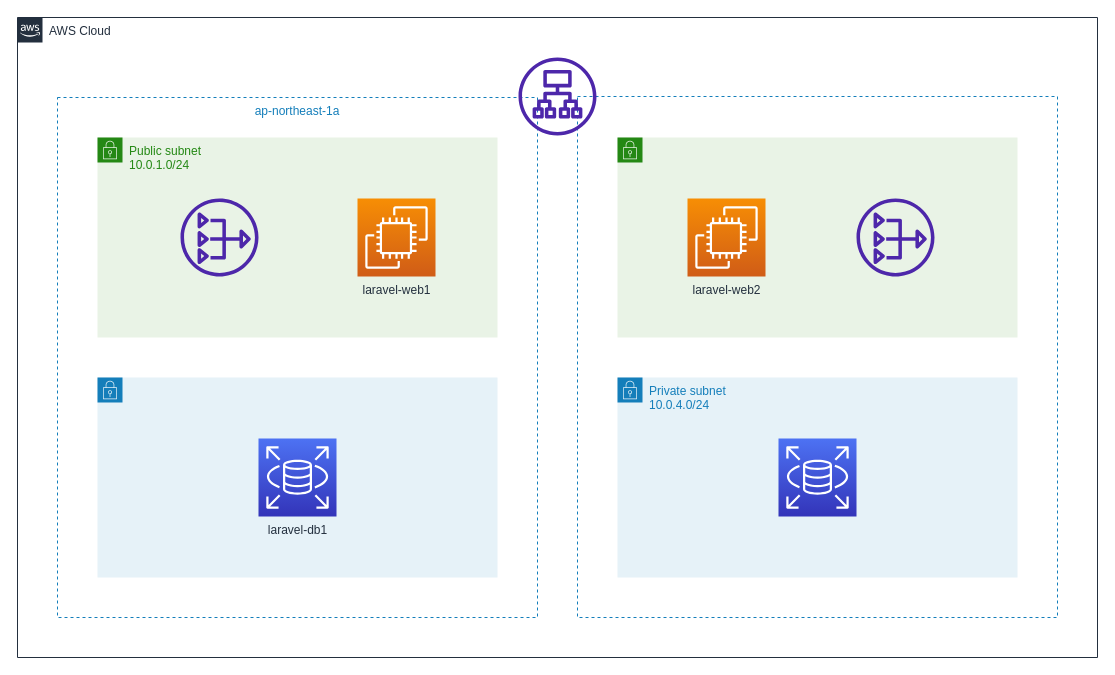
Image size: 1115x675. Some labels were removed from this diagram. The box of each missing label's shape, as (x1, y1, x2, y2) in pixels:
ap-northeast-1c: (576, 96, 1058, 618)
Private subnet 10.0.3.0/24: (96, 376, 498, 578)
Public subnet 10.0.2.0/24: (616, 136, 1018, 338)
Read Replica: (778, 438, 856, 516)
